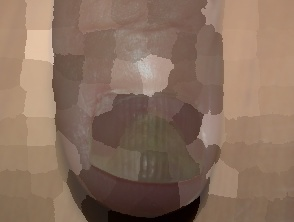Nail_psoriasis: (90, 100, 212, 220)
